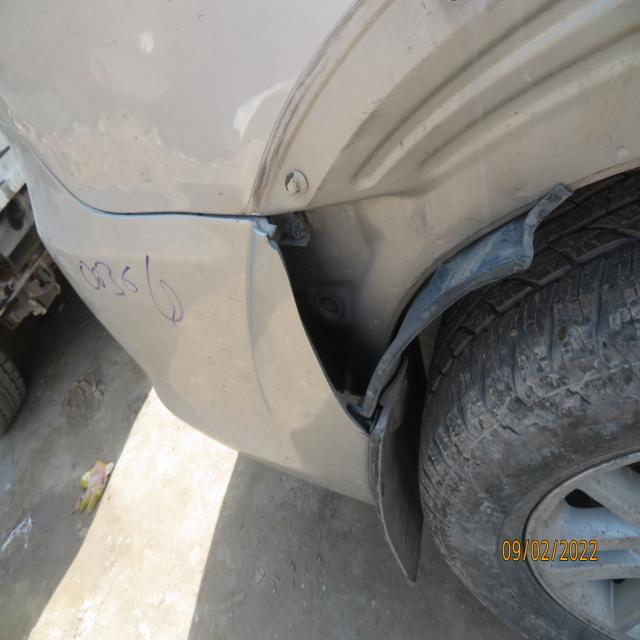damage: (250, 0, 640, 247), (231, 211, 419, 444)
